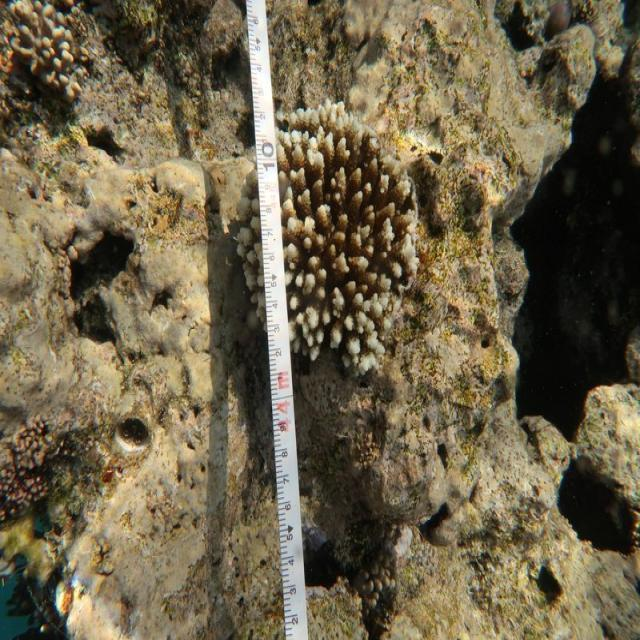Healthy Coral: (255, 108, 428, 359)
